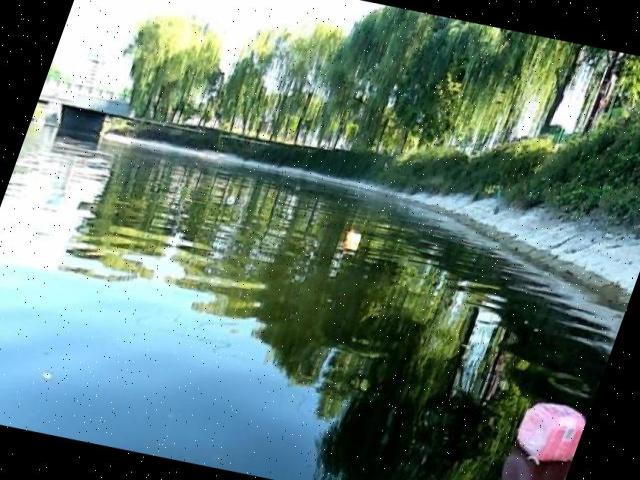Waste: (510, 395, 594, 463), (338, 228, 367, 260)
